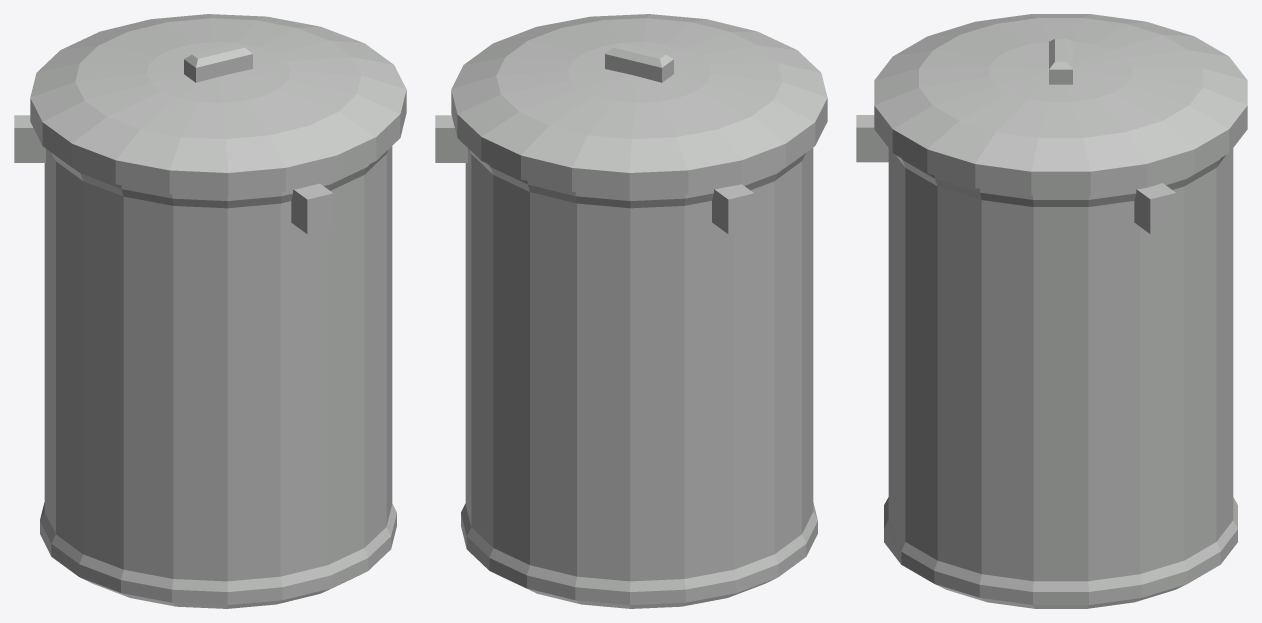
File: SM_Vendor_TahoCan_02.fbx
3 views of the same model, side by side, from view 1: azimuth 30°, elevation 25°; view 2: azimuth 150°, elevation 25°; view 3: azimuth 270°, elevation 25° (orthographic).
Parts seen in each view (by area): view 1: SM_Vendor_TahoCan_02; view 2: SM_Vendor_TahoCan_02; view 3: SM_Vendor_TahoCan_02.
Part boxes in pixels (x1,y1,x2,y2): SM_Vendor_TahoCan_02: [14, 14, 406, 608]; SM_Vendor_TahoCan_02: [435, 14, 827, 608]; SM_Vendor_TahoCan_02: [856, 14, 1247, 608].
Bounding box in the file's own units: 0.3101 × 0.45 × 0.3251.
1 material, 1 textured.
